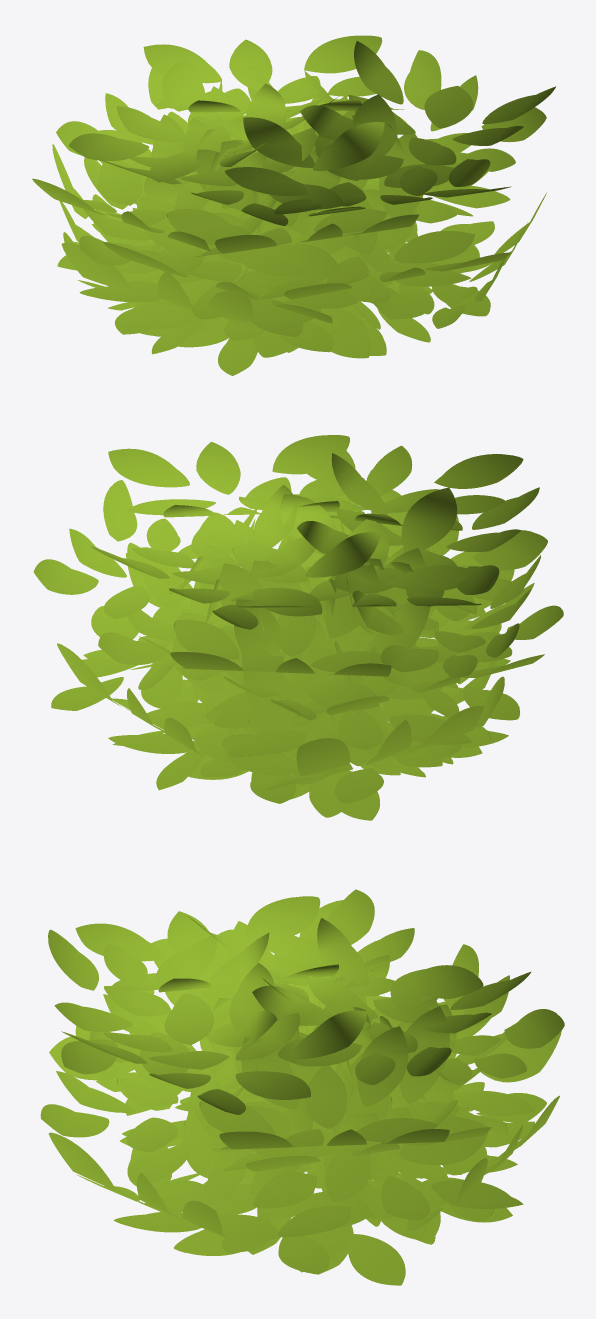
File: anime-bush-01.glb
3 views of the same model, one above another, from view 1: azimuth 30°, elevation 25°; view 2: azimuth 150°, elevation 25°; view 3: azimuth 270°, elevation 25° (orthographic). The views are drawn at different scales.
Visible parts, largest first — view 1: anime-bush-01; view 2: anime-bush-01; view 3: anime-bush-01.
Boxes of the visible parts, x1,y1,x2,y2 form: anime-bush-01: (32,35,555,375); anime-bush-01: (33,435,563,820); anime-bush-01: (40,889,564,1285).
Bounding box in the file's own units: 2.77 × 1.34 × 2.59.
Materials: 1 (1 with a texture image).
